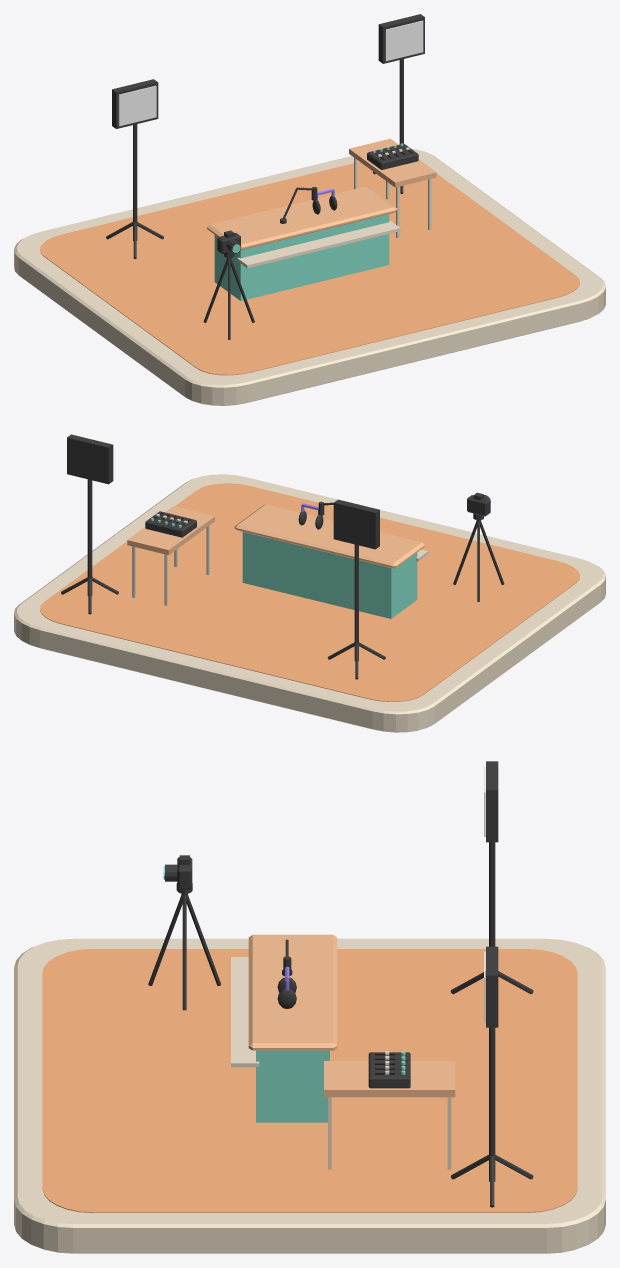
The picture shows the model from 3 angles, top to bottom: view 1: azimuth 30°, elevation 25°; view 2: azimuth 150°, elevation 25°; view 3: azimuth 270°, elevation 25°; orthographic projection. The views are drawn at different scales.
Parts seen in each view (by area): view 1: COM-02 Floor Surface, COM-01 Rounded Base Direct, Counter body, Countertop, Top, Visitor shelf, Diffuser, Diffuser.001, Audio console, Light panel, Light panel.001, Pole; view 2: COM-02 Floor Surface, COM-01 Rounded Base Direct, Counter body, Countertop, Top, Light panel, Light panel.001, Audio console, Pole.001, Pole; view 3: COM-02 Floor Surface, COM-01 Rounded Base Direct, Countertop, Counter body, Top, Visitor shelf, Audio console, Light panel, Light panel.001, Pole.001, Pole.
Part boxes in pixels (x1,y1,x2,y2): COM-02 Floor Surface: (40,162,579,375); COM-01 Rounded Base Direct: (14,148,605,405); Counter body: (214,214,389,300); Countertop: (207,186,397,249); Top: (349,138,436,238); Visitor shelf: (237,220,400,268); Diffuser: (118,85,156,126); Diffuser.001: (385,20,423,61); Audio console: (367,143,418,169); Light panel: (112,79,158,128); Light panel.001: (378,14,424,63); Pole: (133,124,137,240); COM-02 Floor Surface: (40,483,579,701); COM-01 Rounded Base Direct: (14,474,605,732); Counter body: (242,532,417,618); Countertop: (234,504,424,568); Top: (127,506,214,605); Light panel: (333,499,379,549); Light panel.001: (67,434,113,484); Audio console: (145,511,196,537); Pole.001: (87,479,92,595); Pole: (354,544,358,661); COM-02 Floor Surface: (42,949,577,1212); COM-01 Rounded Base Direct: (14,938,605,1253); Countertop: (248,934,337,1050); Counter body: (256,1050,329,1122); Top: (324,1061,455,1169); Visitor shelf: (231,957,259,1067); Audio console: (368,1052,410,1088); Light panel: (486,761,498,842); Light panel.001: (486,946,498,1027); Pole.001: (489,1027,495,1181); Pole: (489,842,495,946).
Bounding box in the file's own units: 6 × 2.5 × 5.2.
Materials: 1 (1 with a texture image).
